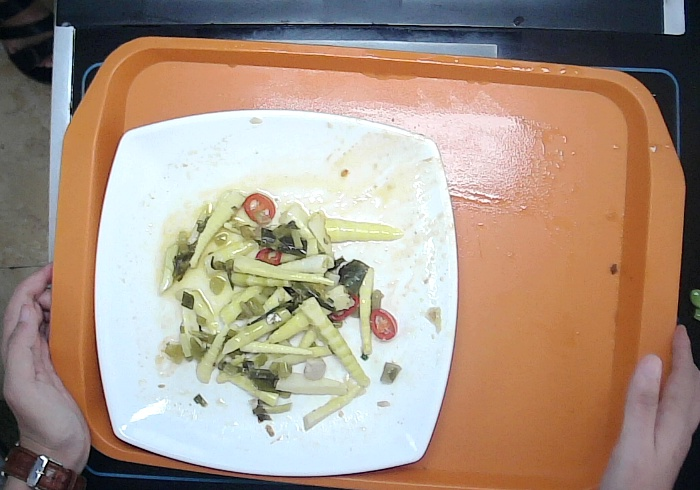ZNLD-Bai_Fang_Pan: (93, 108, 463, 480)
